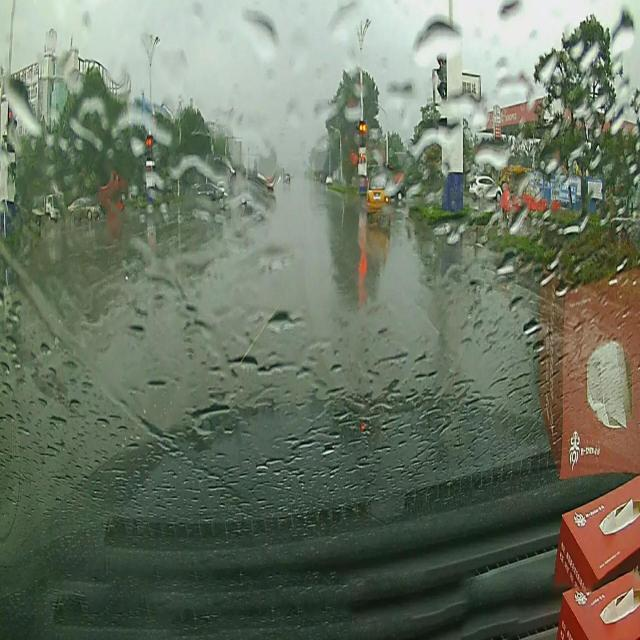car: (366, 164, 394, 220), (184, 177, 226, 212), (469, 170, 502, 203), (33, 192, 61, 224), (67, 196, 101, 222)
